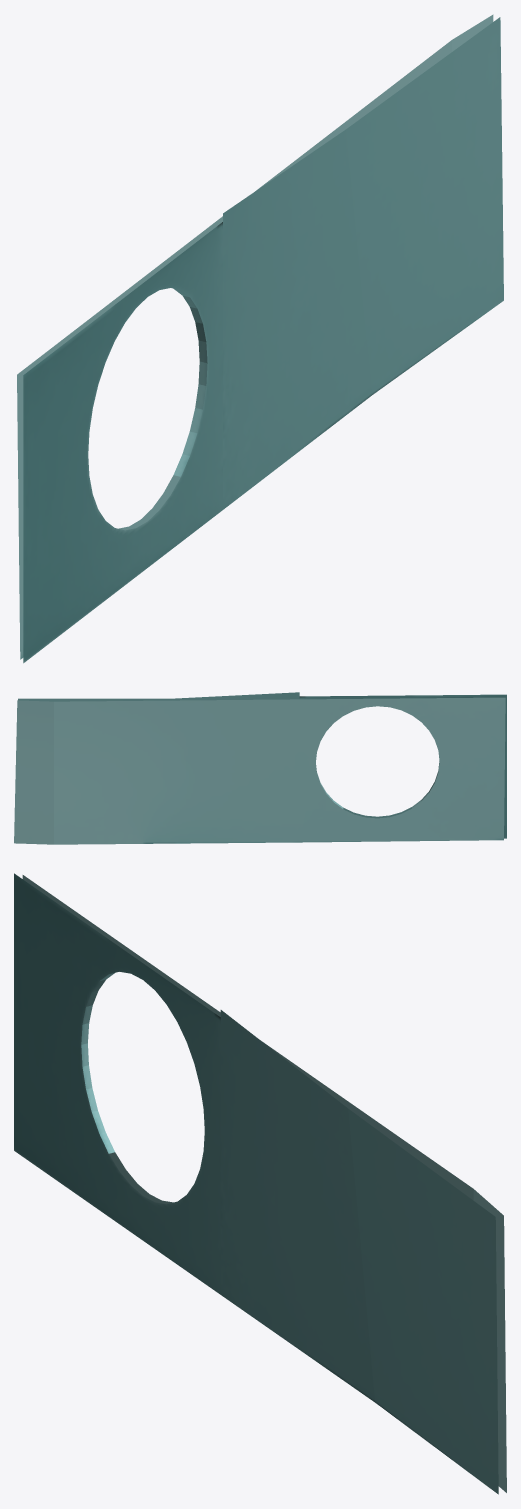
The model's file is structure_06.glb.
3 views of the same model, one above another, from view 1: azimuth 30°, elevation 25°; view 2: azimuth 150°, elevation 25°; view 3: azimuth 270°, elevation 25° (orthographic). The views are drawn at different scales.
Parts seen in each view (by area): view 1: Structure.005; view 2: Structure.005; view 3: Structure.005.
Part boxes in pixels (x1=…): Structure.005: x1=17, y1=14, x2=503, y2=663; Structure.005: x1=14, y1=692, x2=506, y2=844; Structure.005: x1=14, y1=873, x2=506, y2=1494.
Size of the model in its own units: 9.25 by 3.57 by 5.59.
1 material, 1 textured.
